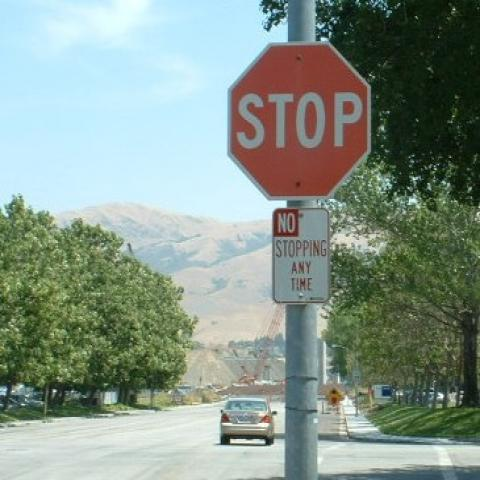car: (219, 398, 278, 446)
